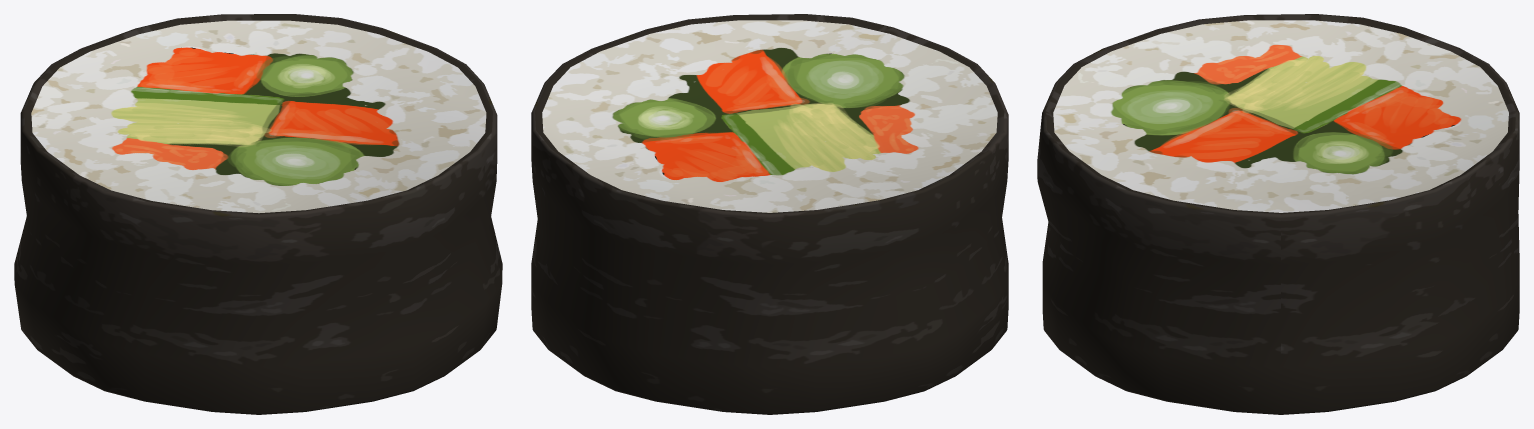
The model's file is Veggie.fbx.
The picture shows the model from 3 angles, left to right: view 1: azimuth 30°, elevation 25°; view 2: azimuth 150°, elevation 25°; view 3: azimuth 270°, elevation 25°; orthographic projection.
Visible parts, largest first — view 1: Sushi_vegi; view 2: Sushi_vegi; view 3: Sushi_vegi.
Boxes of the visible parts, box(x1,y1,x2,y2) form: Sushi_vegi: box(14, 14, 502, 414); Sushi_vegi: box(531, 14, 1008, 414); Sushi_vegi: box(1037, 14, 1519, 414).
Bounding box in the file's own units: 0.6846 × 0.6837 × 0.3145.
